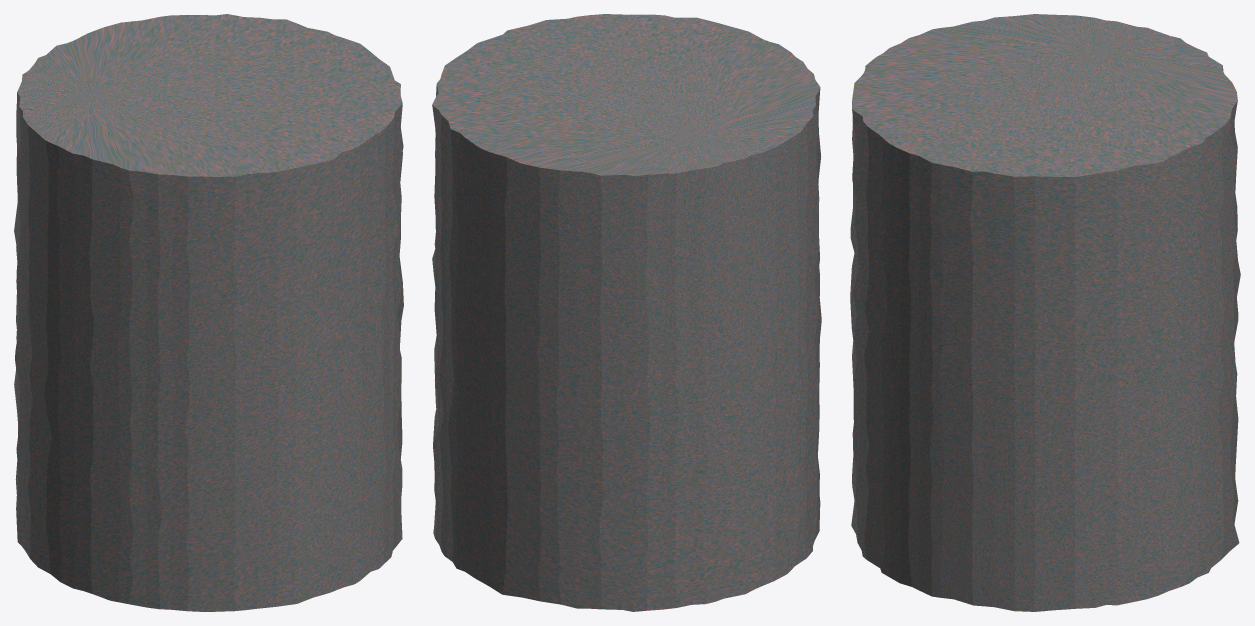
File: barrel_15.dae
3 renders of one model, left to right at view 1: azimuth 30°, elevation 25°; view 2: azimuth 150°, elevation 25°; view 3: azimuth 270°, elevation 25°, orthographic.
Parts seen in each view (by area): view 1: Cylinder; view 2: Cylinder; view 3: Cylinder.
Part boxes in pixels (x1,y1,x2,y2): Cylinder: (14,14,403,611); Cylinder: (432,14,821,611); Cylinder: (850,14,1240,611).
Size of the model in its own units: 0.8164 by 0.816 by 1.
Materials: 1 (1 with a texture image).
